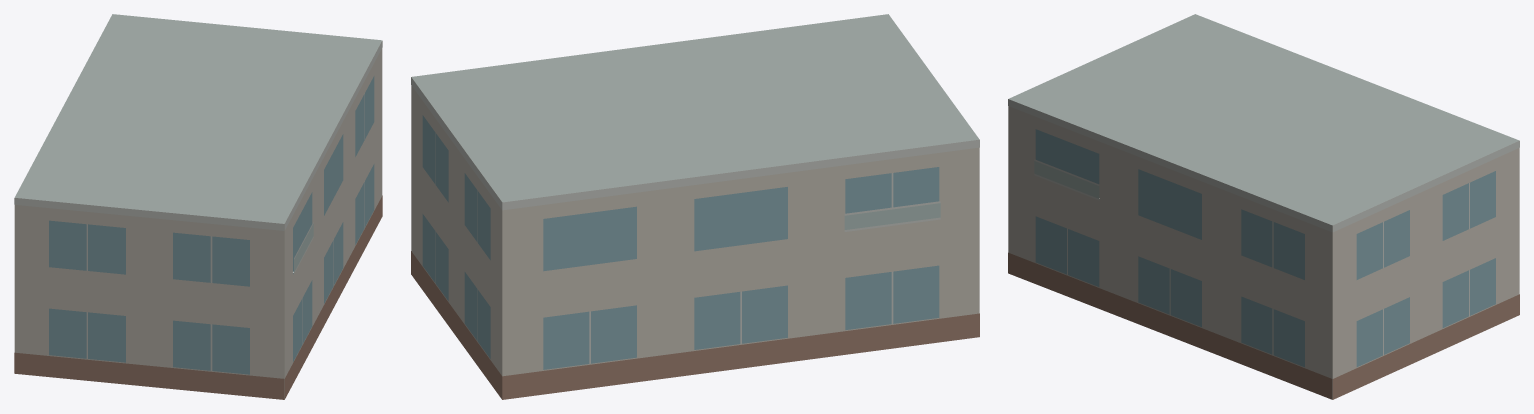
File: survey-upis-32977313.glb
The picture shows the model from 3 angles, left to right: view 1: azimuth 30°, elevation 25°; view 2: azimuth 150°, elevation 25°; view 3: azimuth 270°, elevation 25°; orthographic projection. The views are drawn at different scales.
Parts seen in each view (by area): view 1: survey-upis-32977313.tmp; view 2: survey-upis-32977313.tmp; view 3: survey-upis-32977313.tmp.
Boxes of the visible parts, x1,y1,x2,y2 form: survey-upis-32977313.tmp: [14, 14, 382, 399]; survey-upis-32977313.tmp: [411, 14, 979, 399]; survey-upis-32977313.tmp: [1008, 14, 1519, 399].
Bounding box in the file's own units: 15.88 × 6.1 × 16.23.
